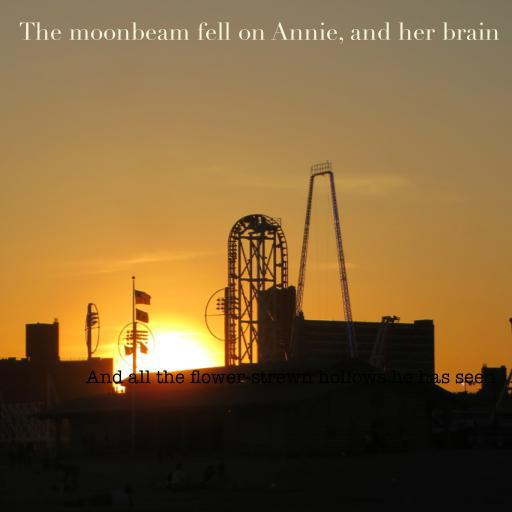American Typewriter: (86, 370, 496, 384)
Didot: (18, 22, 500, 45)
